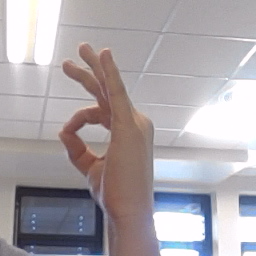O: (53, 40, 164, 214)
